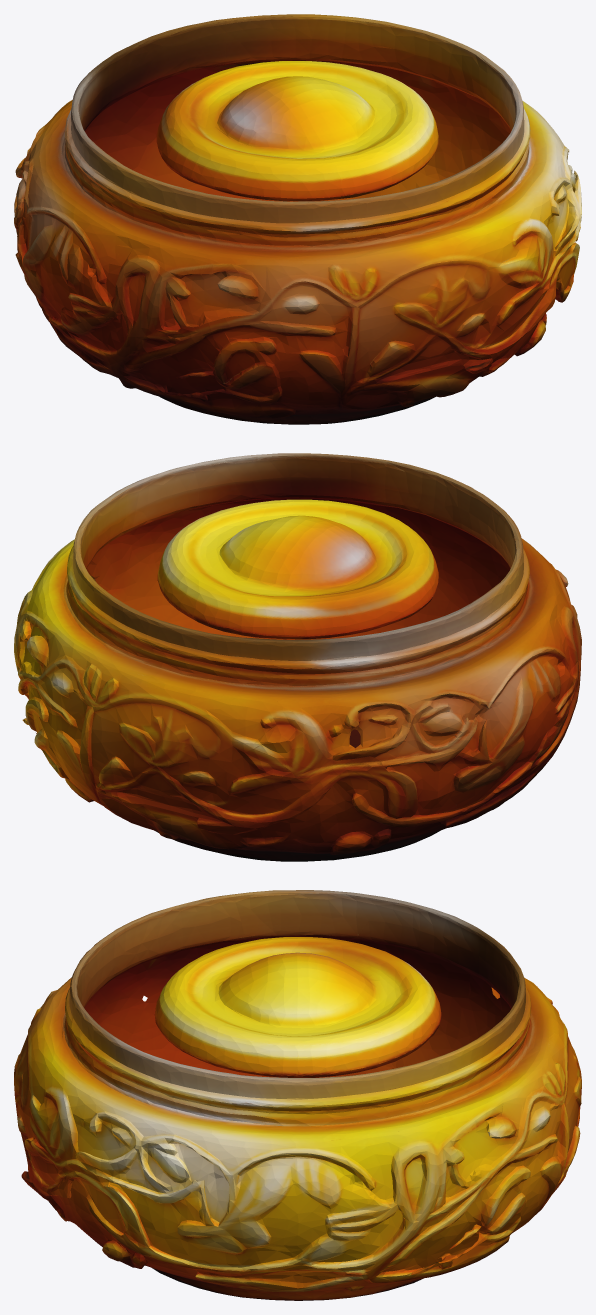
Rendered from beeswax-lip-balm-container-3d.jpeg.glb.
3 views of the same model, one above another, from view 1: azimuth 30°, elevation 25°; view 2: azimuth 150°, elevation 25°; view 3: azimuth 270°, elevation 25° (orthographic).
Visible parts, largest first — view 1: world; view 2: world; view 3: world.
Part boxes in pixels (x1,y1,x2,y2): world: (14,14,581,424); world: (14,453,581,861); world: (14,890,581,1300).
Bounding box in the file's own units: 0.9994 × 0.5149 × 0.999.
1 material, 1 textured.
